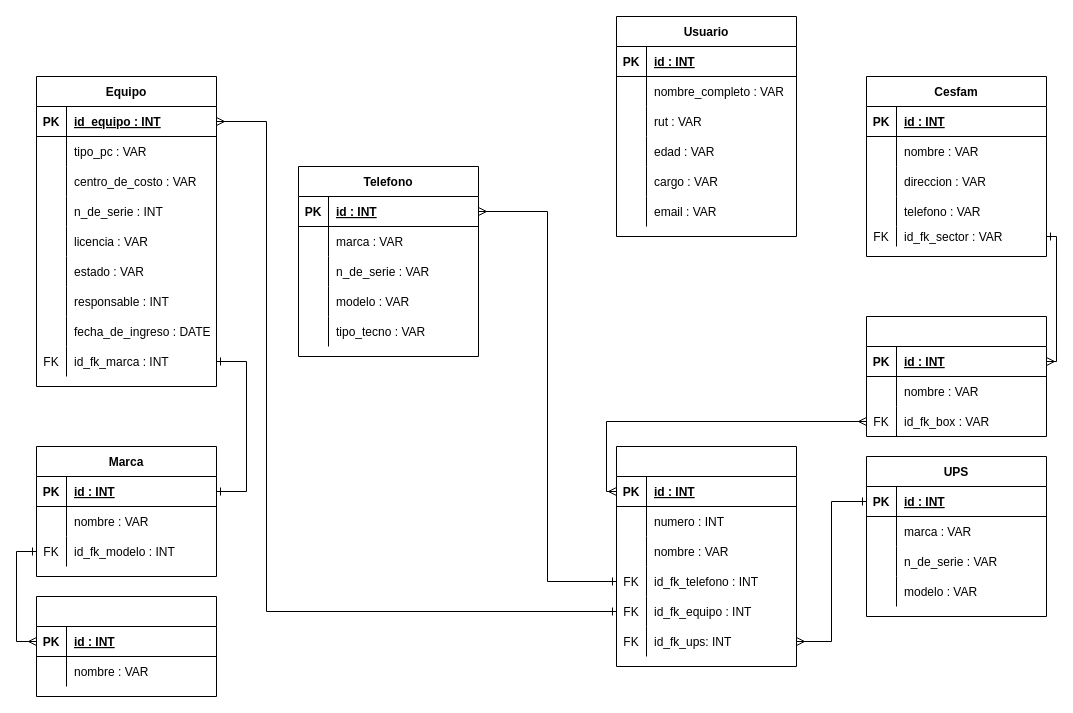
Image size: 1073x713. Some labels were removed from this diagram. Each missing label, with the box of its shape:
Box: (616, 446, 796, 666)
Modelo: (36, 596, 216, 696)
Sector: (866, 316, 1046, 436)
